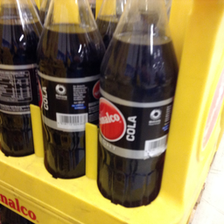soda: (99, 1, 178, 206), (36, 1, 104, 178), (1, 1, 43, 156)
